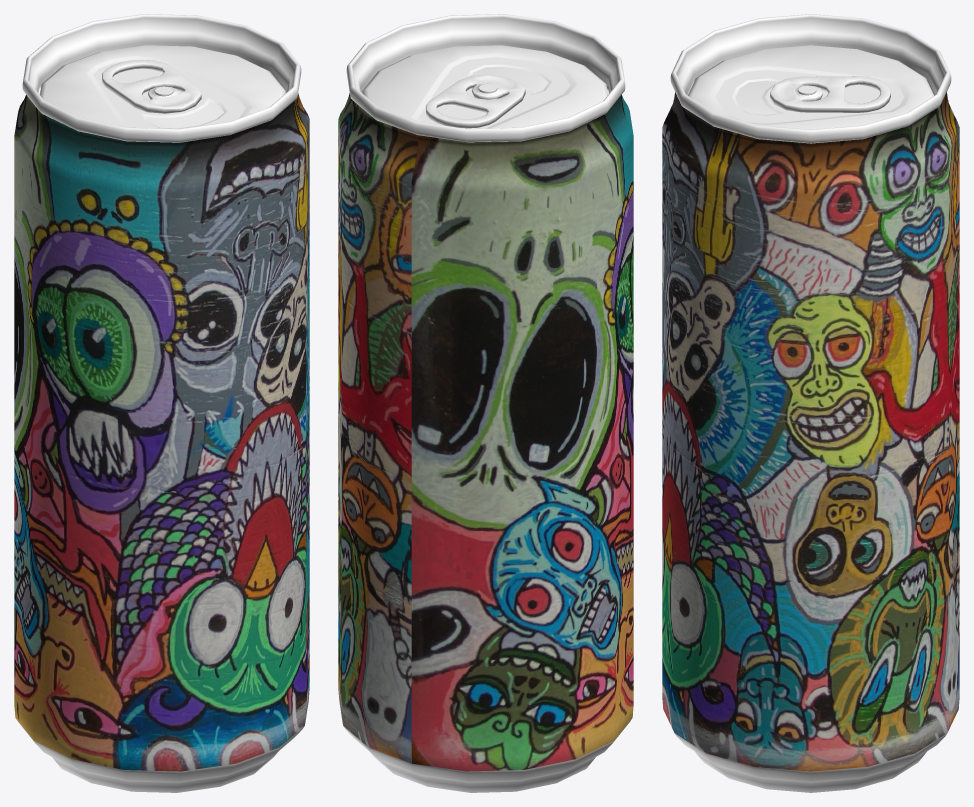
File: artworkcan.glb
3 views of the same model, side by side, from view 1: azimuth 30°, elevation 25°; view 2: azimuth 150°, elevation 25°; view 3: azimuth 270°, elevation 25° (orthographic).
Visible parts, largest first — view 1: Can 330 ml sleek.004; view 2: Can 330 ml sleek.004; view 3: Can 330 ml sleek.004.
Part boxes in pixels (x1,y1,x2,y2): Can 330 ml sleek.004: [14, 14, 309, 792]; Can 330 ml sleek.004: [338, 14, 633, 792]; Can 330 ml sleek.004: [662, 14, 959, 792].
Bounding box in the file's own units: 0.7663 × 1.91 × 0.7663.
2 materials, 1 textured.
